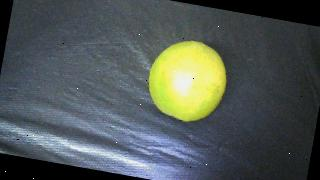LOCAL: (142, 35, 232, 127)
